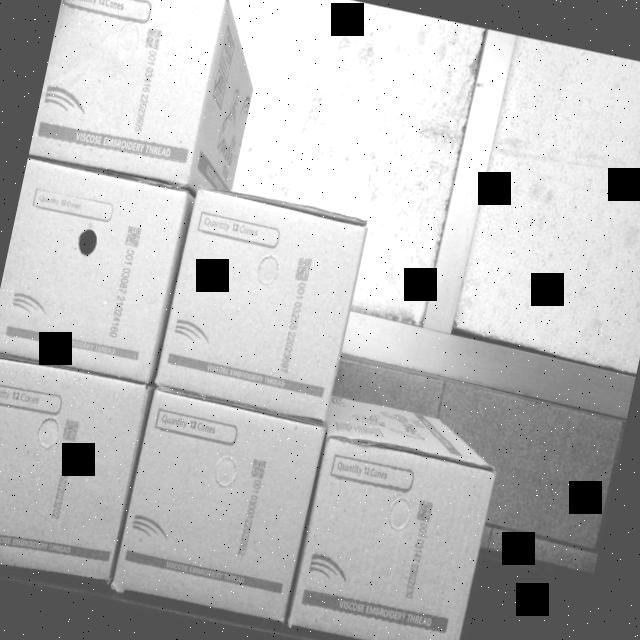box: (115, 384, 328, 630), (154, 184, 370, 420), (0, 153, 186, 389), (290, 433, 498, 640), (0, 348, 151, 596), (29, 0, 229, 184)
